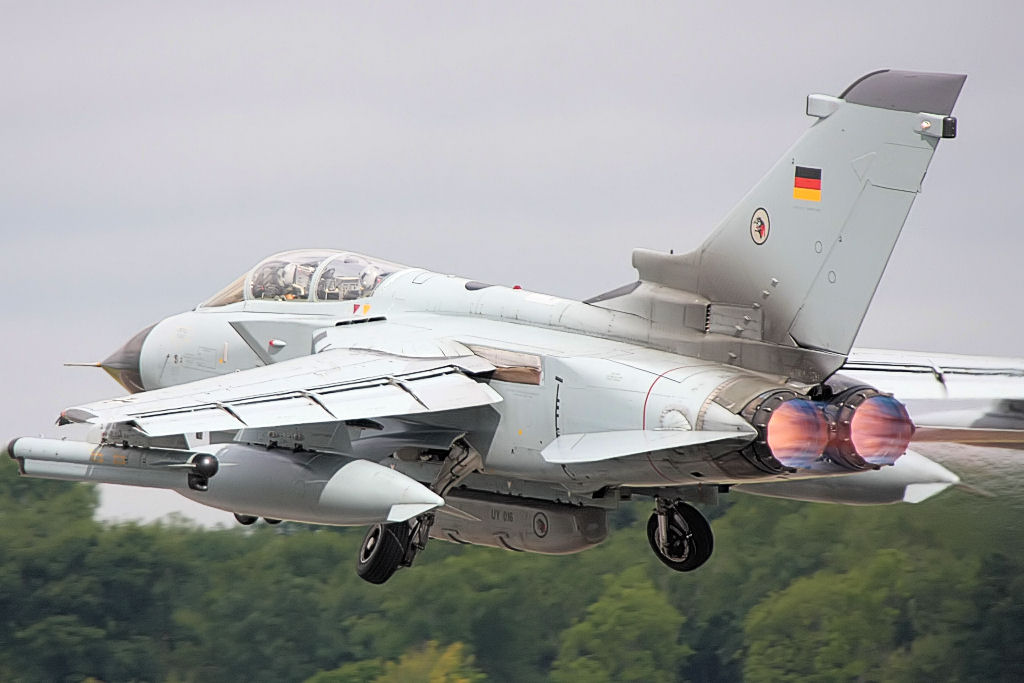Tornado: (7, 68, 1024, 585)
